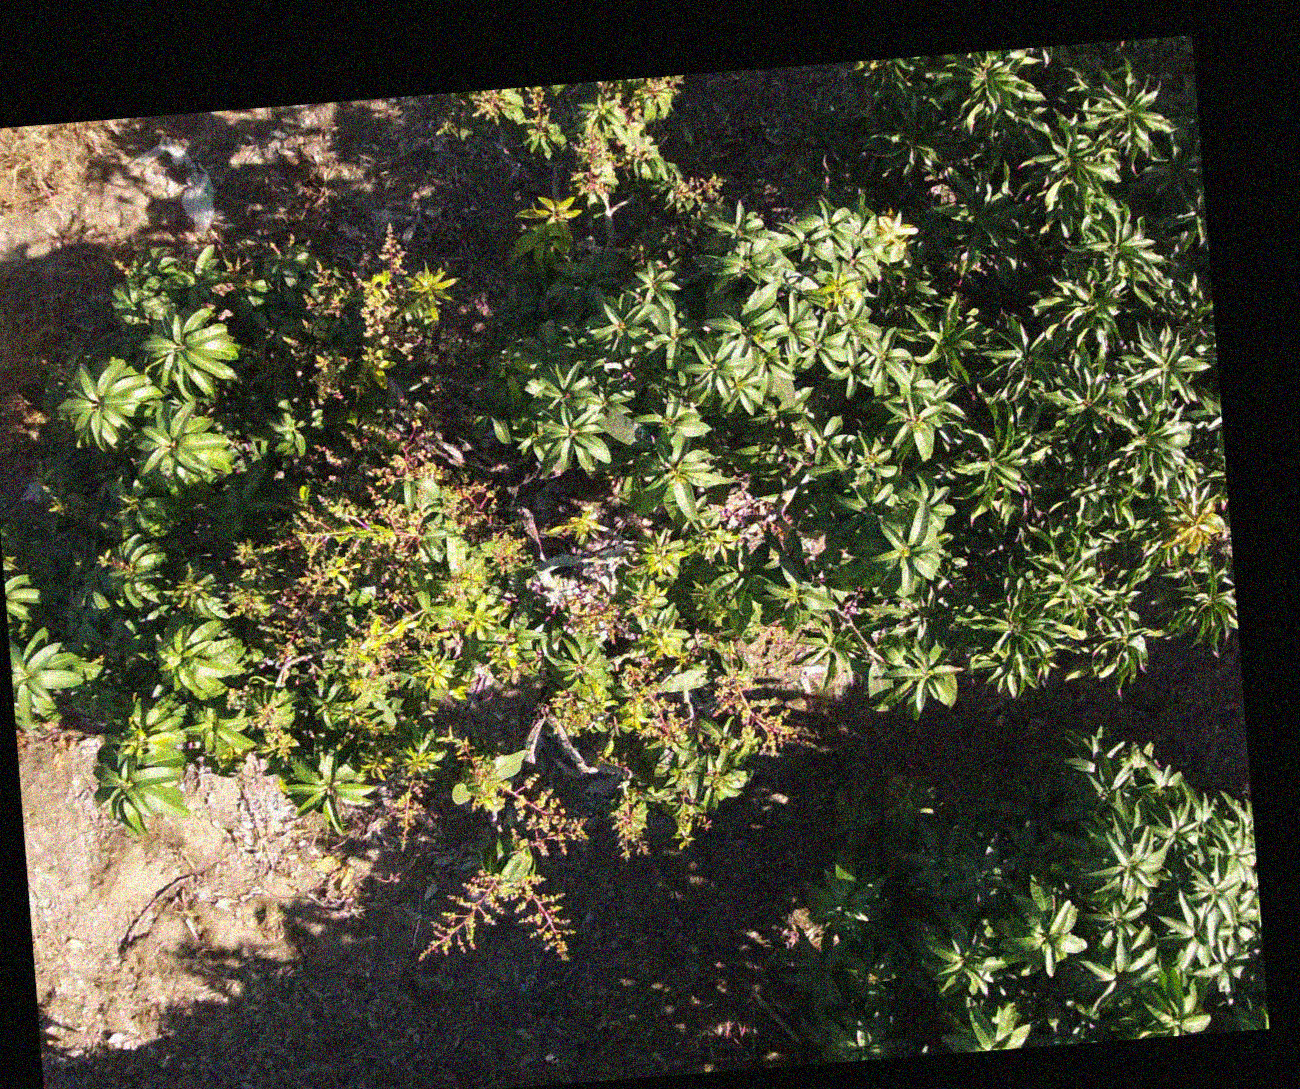flowers: (225, 398, 530, 828), (599, 525, 793, 841), (463, 84, 700, 217), (451, 723, 582, 857), (357, 227, 460, 387), (415, 868, 572, 965), (389, 731, 448, 845), (301, 260, 354, 385), (609, 782, 649, 858), (530, 691, 592, 738), (311, 354, 349, 400)
